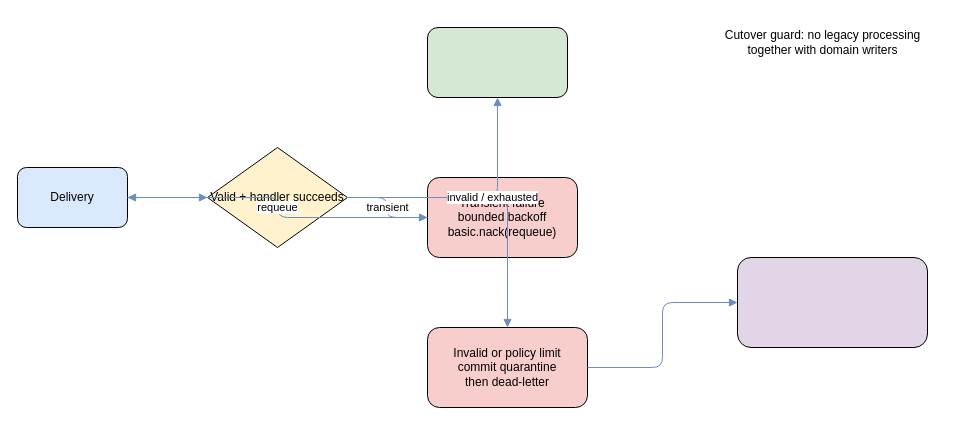
The diagram is 965 pixels wide and 425 high, and some of its shapes have lost their labels. Here are the shapes that lost their labels. From the top down, the box of each, then its label:
(426, 26, 568, 98): Commit outcome then ACK
(736, 256, 928, 348): Operator: inspect receipt / reason create replay run + scope publish replay lane
